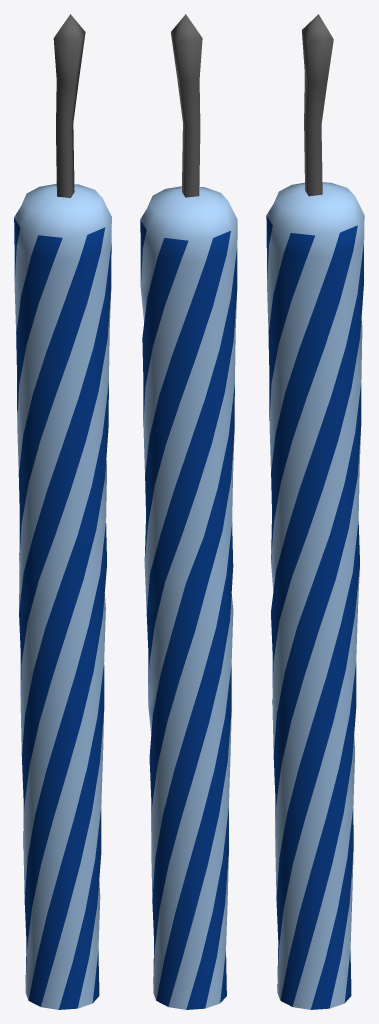
File: birthday_candle_008.glb
3 renders of one model, left to right at view 1: azimuth 30°, elevation 25°; view 2: azimuth 150°, elevation 25°; view 3: azimuth 330°, elevation 25°, orthographic.
Parts seen in each view (by area): view 1: birthday_candle_008; view 2: birthday_candle_008; view 3: birthday_candle_008.
Boxes of the visible parts, x1=… form: birthday_candle_008: x1=14, y1=14, x2=111, y2=1009; birthday_candle_008: x1=140, y1=14, x2=237, y2=1009; birthday_candle_008: x1=266, y1=14, x2=364, y2=1009.
Size of the model in its own units: 0.9066 by 10.02 by 0.9065.
1 material, 1 textured.
